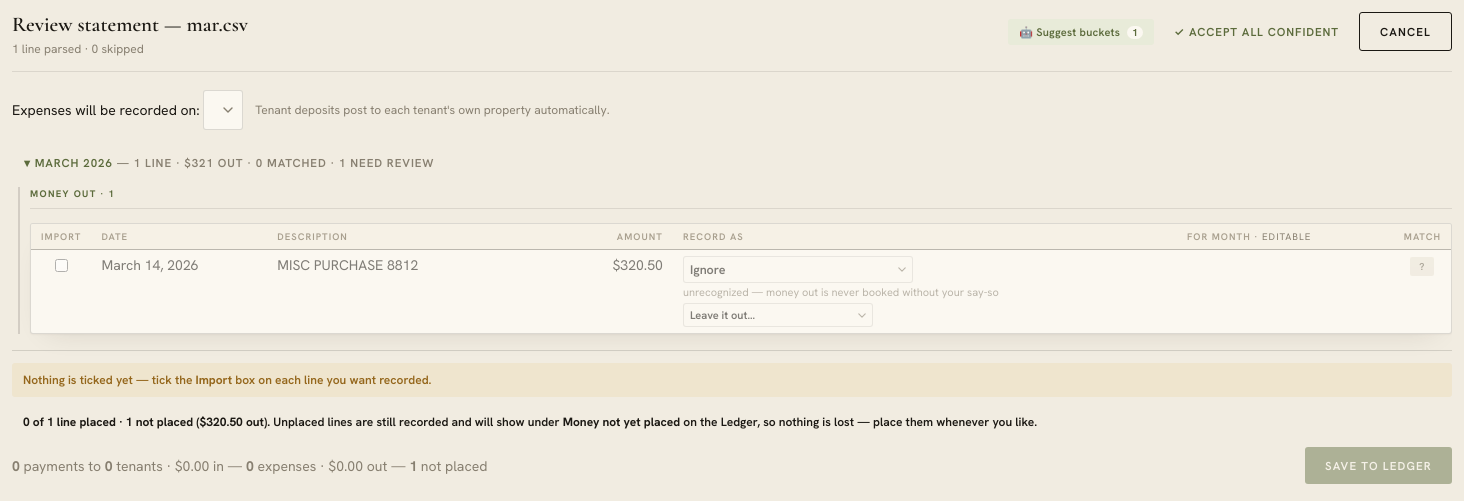
StatementReview — the completeness statement › still lets a genuinely unrecognized line be left out, with a reason
Expected: the text "0 of 1 line placed · 1 not placed ($320.50 out)." is shown, [23,414,270,430]
Select "Personal, not the business" in the dropdown titled "Why this line is being left out" at [778, 315], box [683,303,873,327]
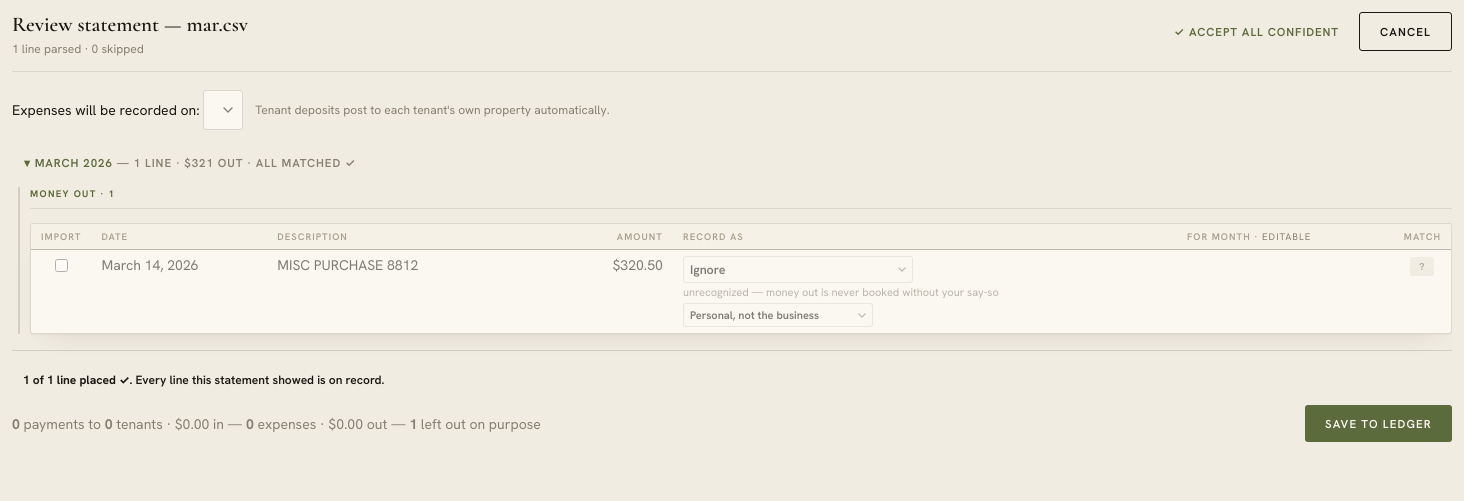
Result: the text "1 left out on purpose" is shown at [12,414,541,432]
Result: the text "not placed" is gone
